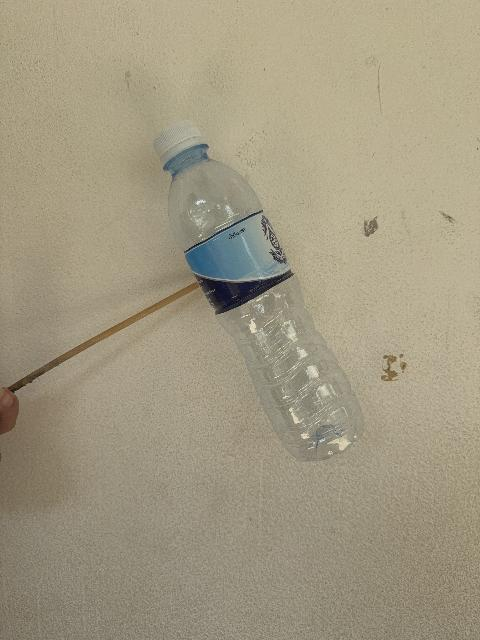bottle: (154, 121, 363, 461)
